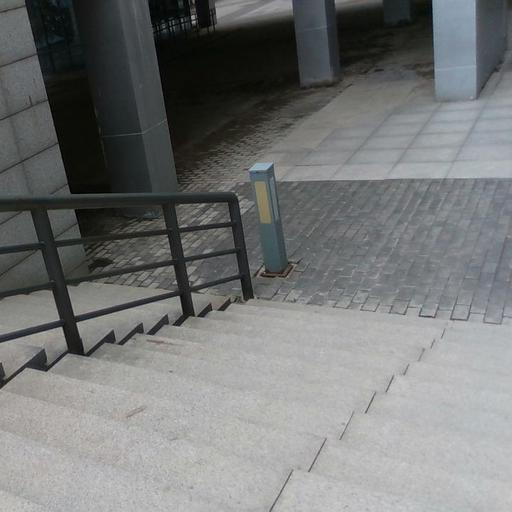stairs: (0, 296, 511, 511)
